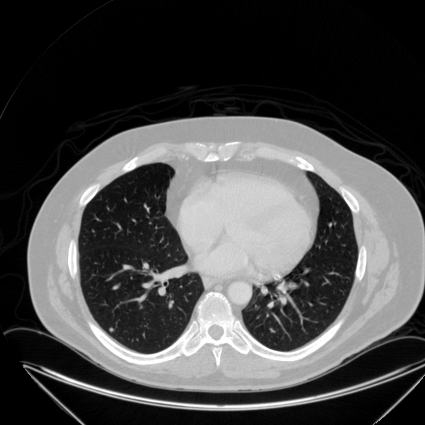nodule: (109, 327, 113, 331)
